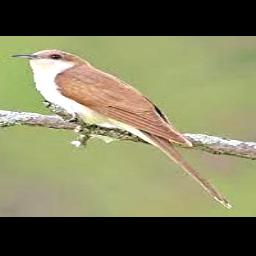Cuckoo: (10, 49, 233, 209)
